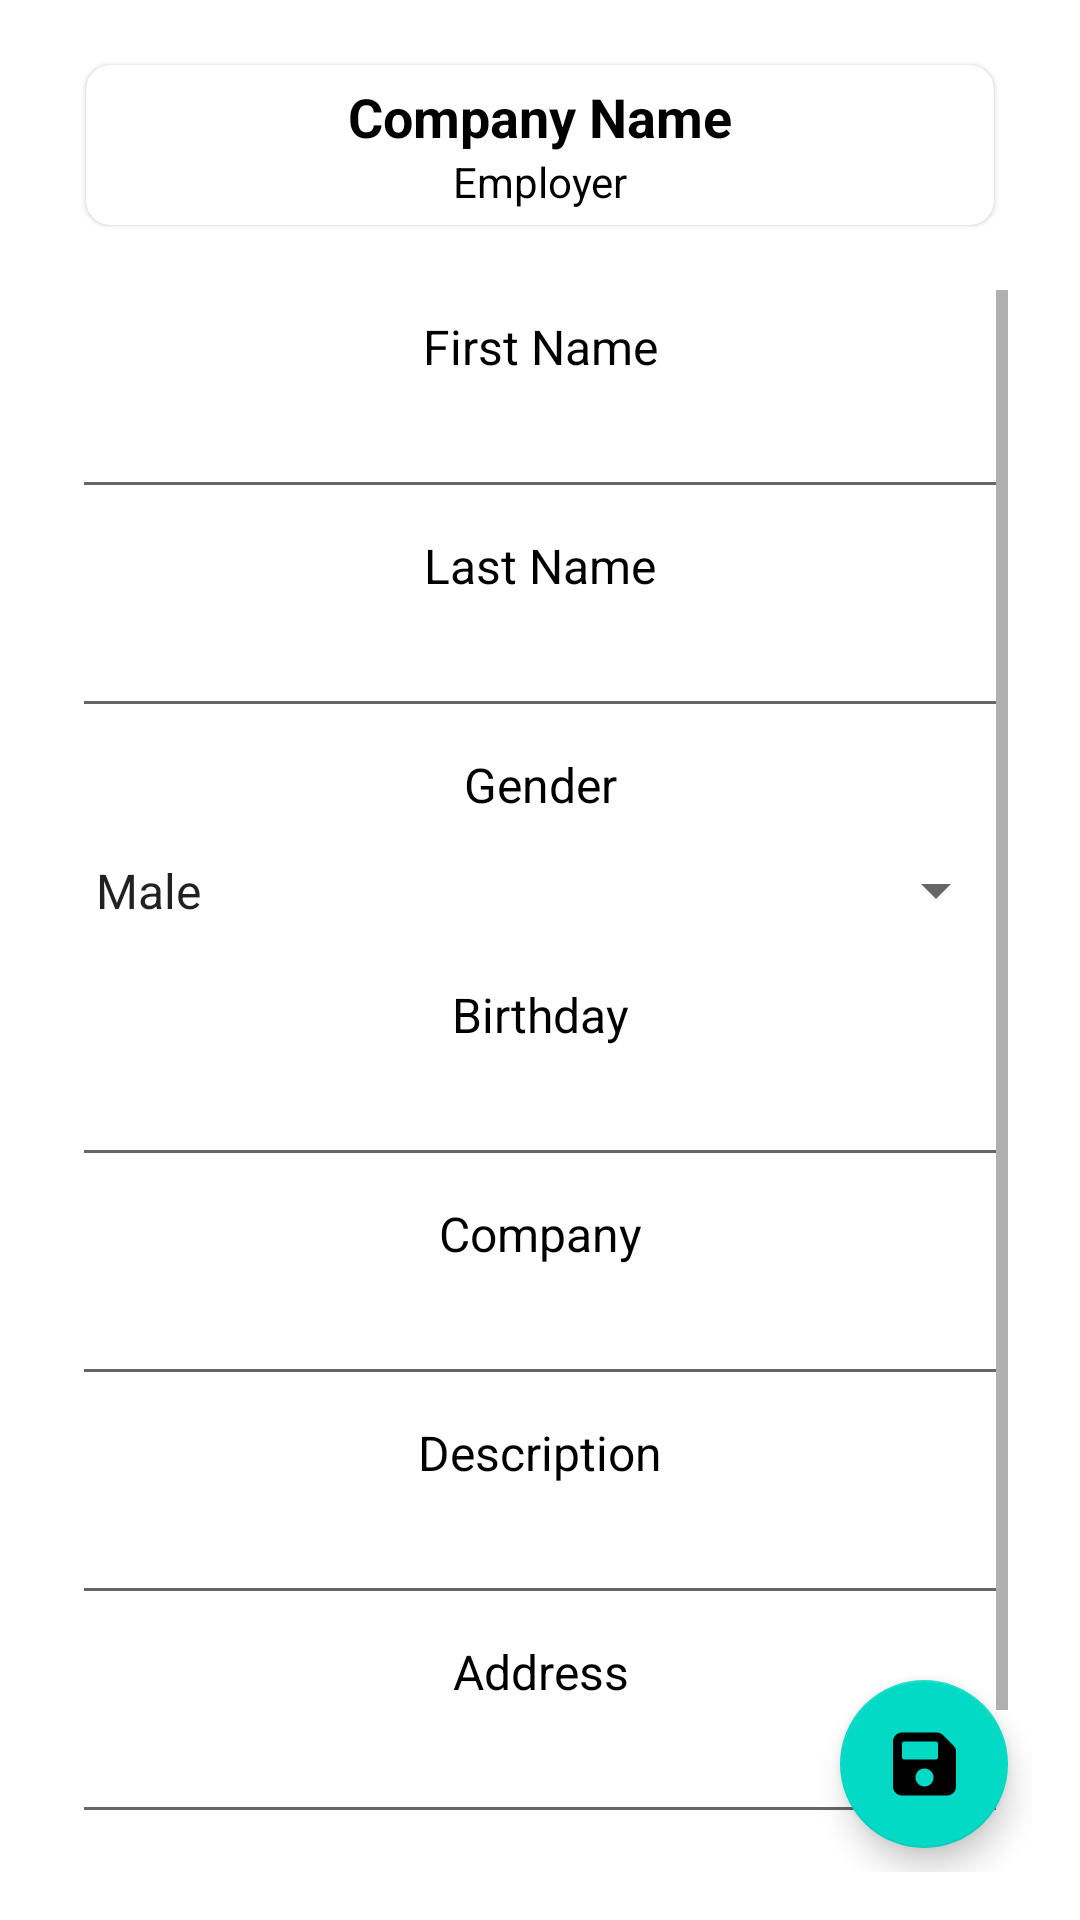

Named icons in this screenshot (1080 × 1920) and their bounding boxes, bbox(x1, y1, x2, y2):
save: bbox(840, 1680, 1008, 1848)
